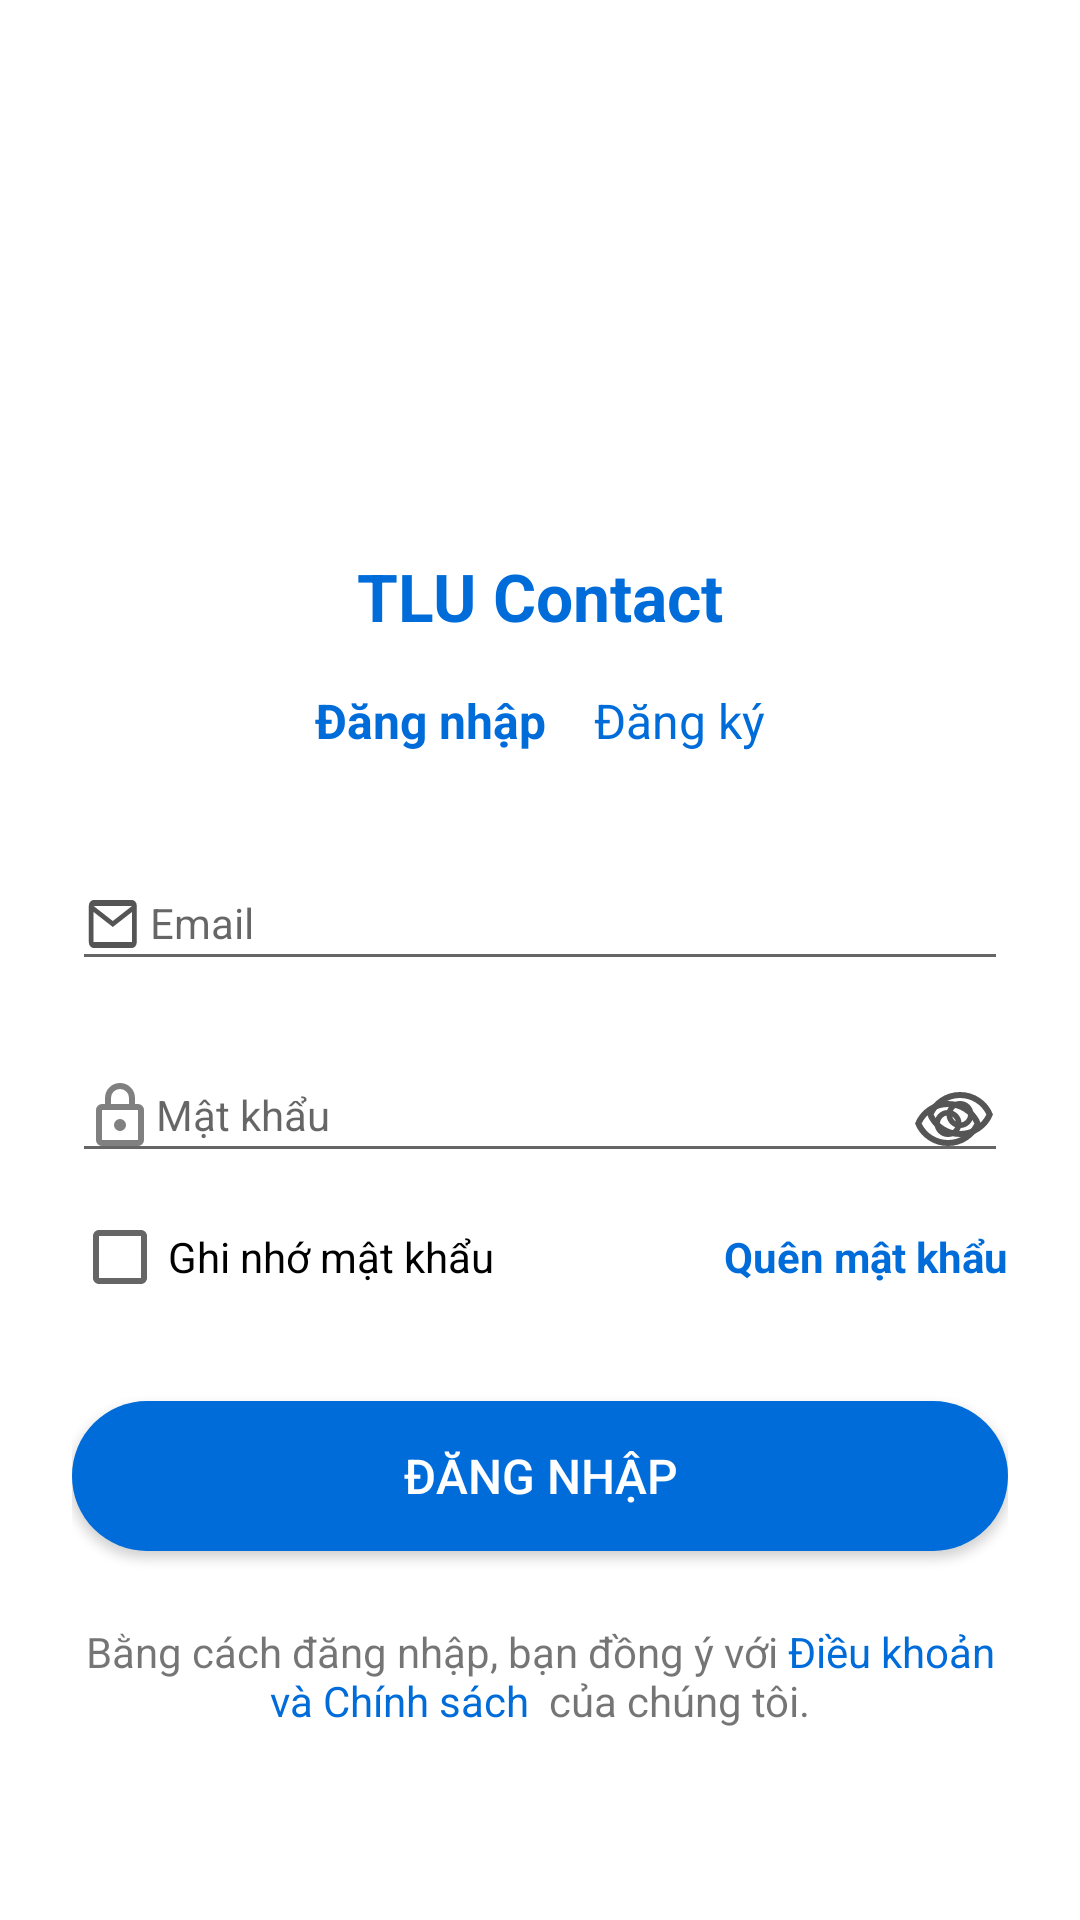

Screen size 1080 × 1920. Icon name, then its center in pixels as (x=x, y=y):
visibility: (x=948, y=1120)
